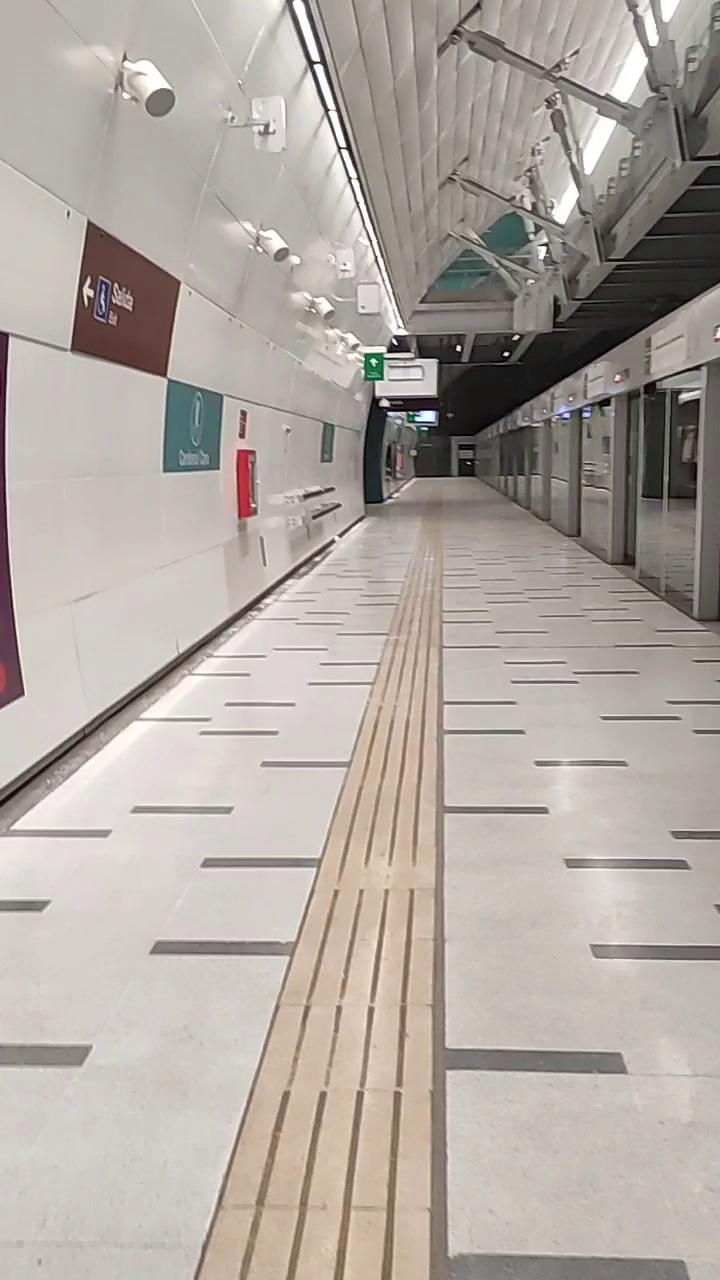handicapped symbol: (98, 284, 106, 316)
left arrow: (81, 274, 95, 308)
